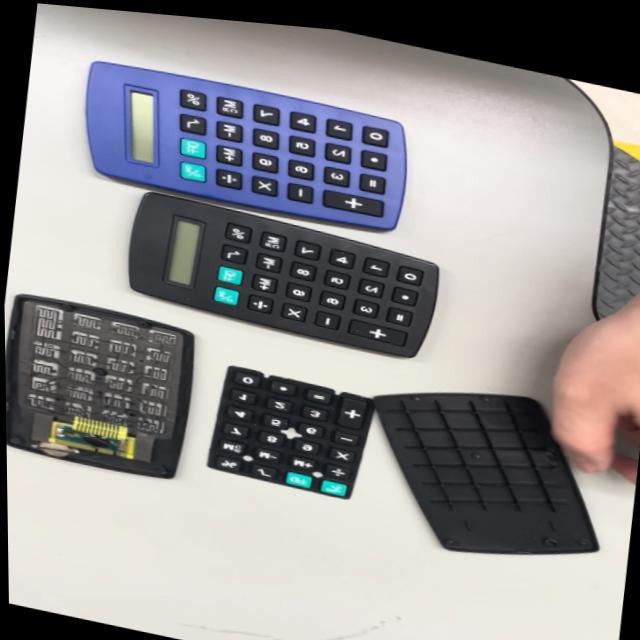back_cover: (362, 363, 608, 584)
calculator: (75, 50, 412, 243), (112, 189, 445, 364)
front_panel: (4, 286, 199, 486)
number_pad: (201, 360, 377, 507)
